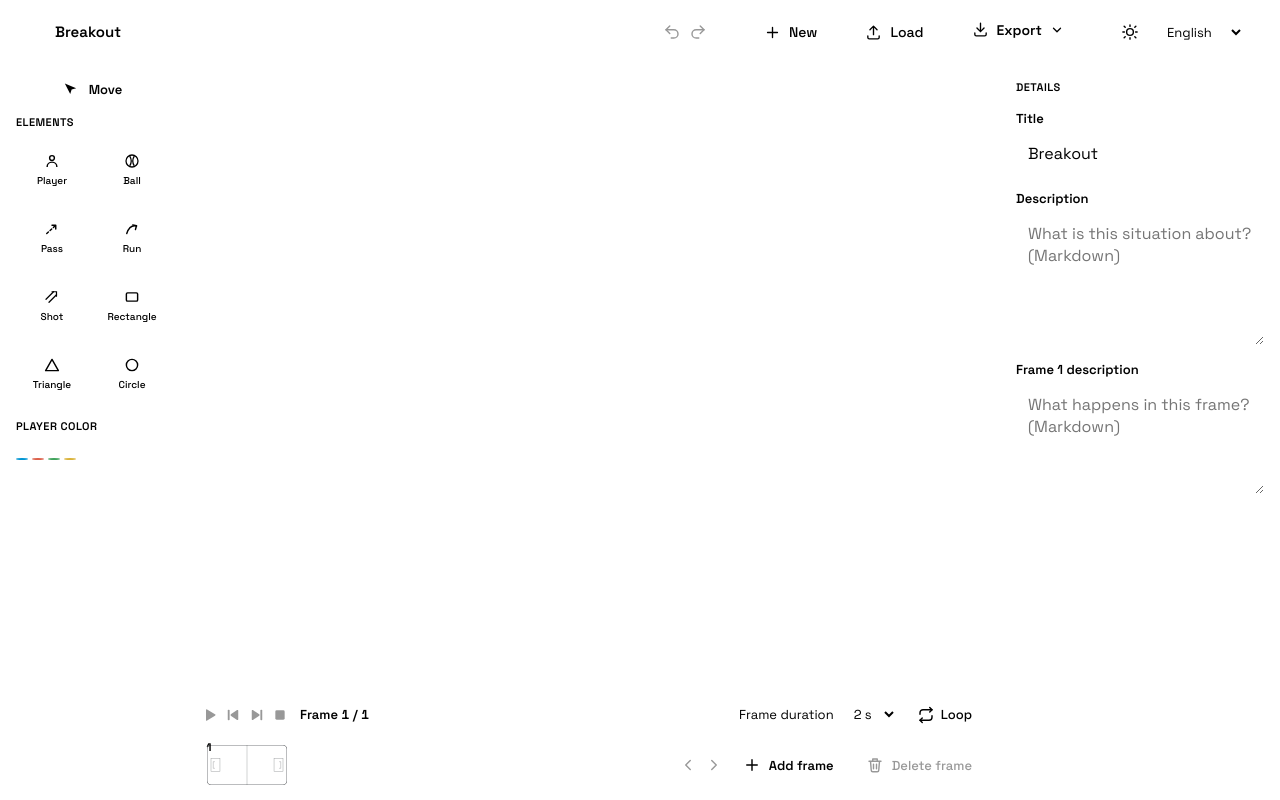
Test: editor page › details panel › edits the title; the header and document title follow; not undoable
The width and height of the screenshot is (1280, 800).
Replace the text in the field labelled "Title" with "Powerplay" at (1140, 154), box [1016,133,1264,174]
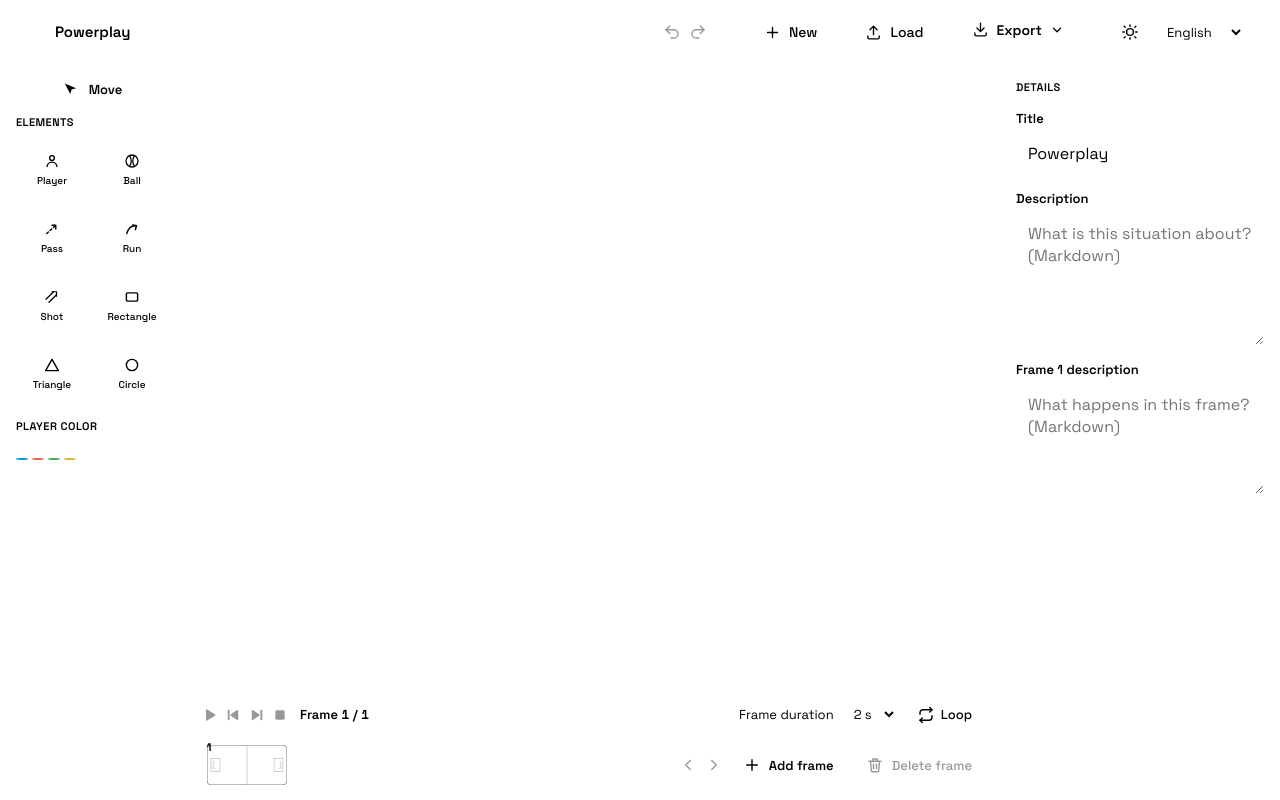
Expected: the button named "Undo" is disabled, [663,23,681,41]
Expected: the heading "Powerplay" is shown, [55,22,130,41]
